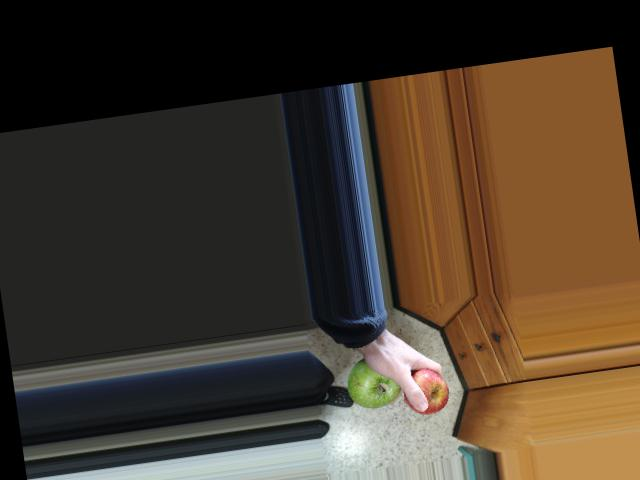apple: (339, 348, 405, 415)
